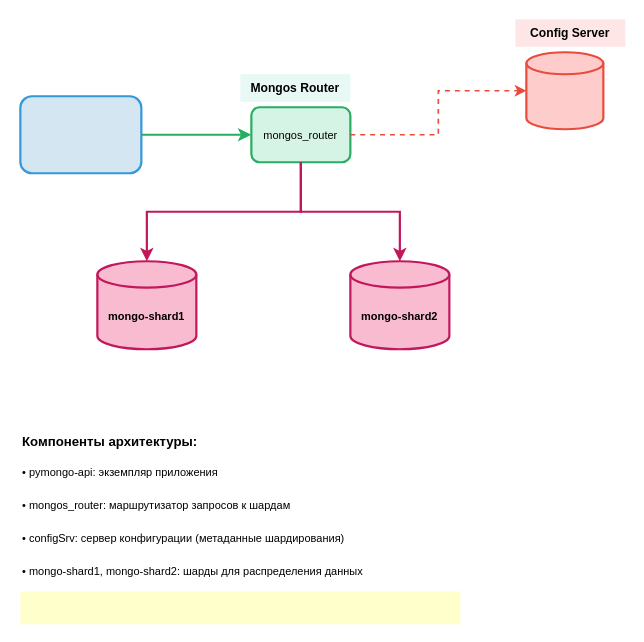
This 644x642 diagram has some shape labels left out. The shapes that lost their labels are listed below. From the top down, each one's centre as x and y in pixels, then its label:
the point at 564,90: configSrv
the point at 80,134: pymongo-api
the point at 240,607: Шардирование: горизонтальное масштабирование БД
